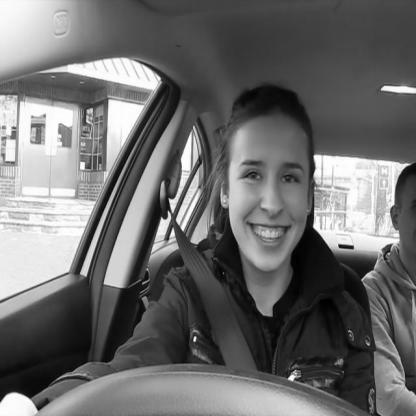seatbelt: (159, 71, 327, 416)
